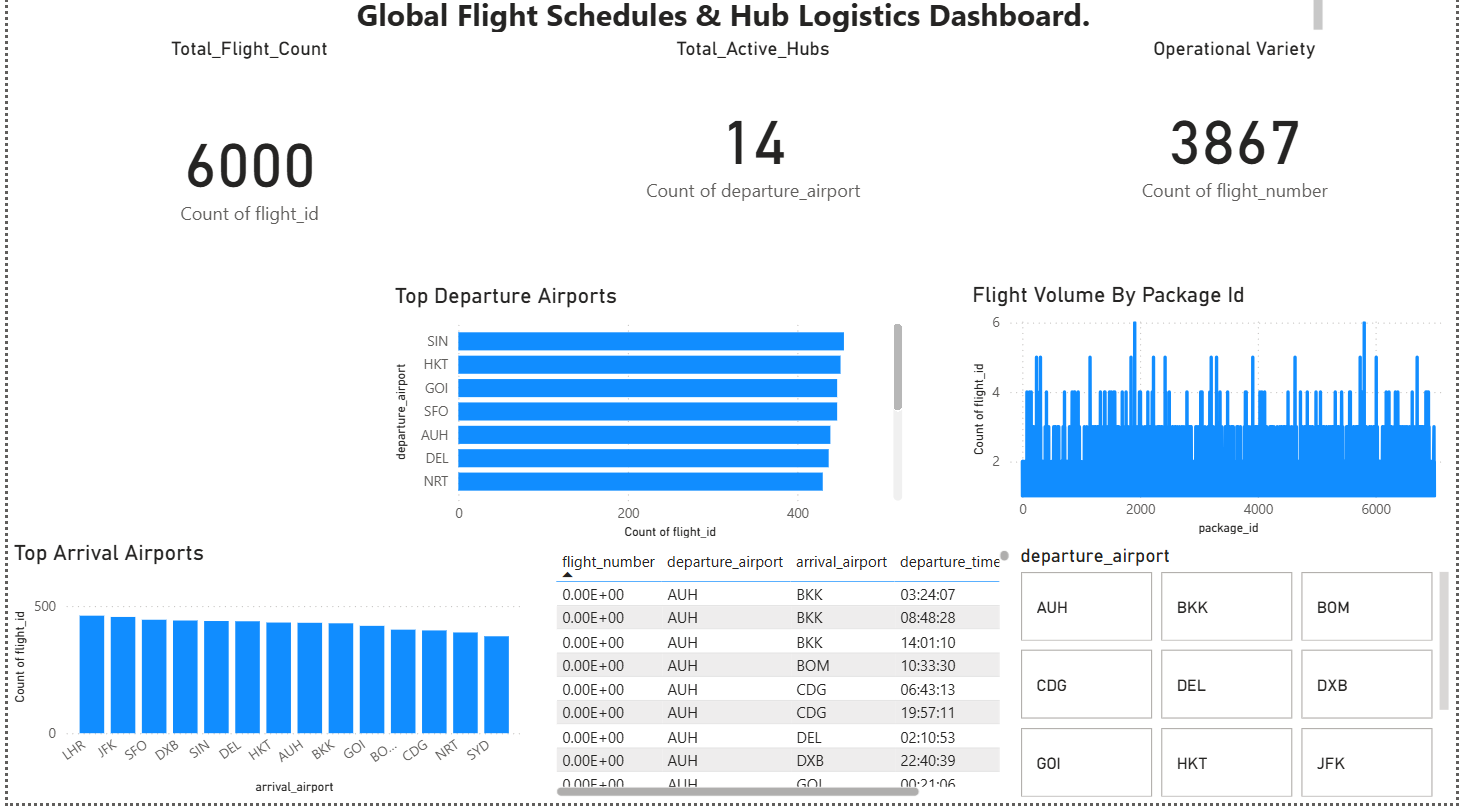

This screenshot's page, from the dashboard's own definition file:
{"tool":"powerbi","page":{"name":"Page 1","canvas":[1280,720],"ordinal":0},"visuals":[{"type":"card","title":"Total_Flight_Count","fields":{"Values":["CountNonNull(tbl_flight_schedules - tbl_flight_schedules (2).flight_id)"]},"box":[0,42.4,427,215],"z":0},{"type":"card","title":"Total_Active_Hubs","fields":{"Values":["Count(tbl_flight_schedules - tbl_flight_schedules (2).departure_airport)"]},"box":[427,42.4,463.3,174.1],"z":1000},{"type":"card","title":"Operational Variety","fields":{"Values":["Count(tbl_flight_schedules - tbl_flight_schedules (2).flight_number)"]},"box":[890.4,42.4,389.2,174.1],"z":2000},{"type":"clusteredBarChart","title":"Top Departure Airports","fields":{"Category":["tbl_flight_schedules - tbl_flight_schedules (2).departure_airport"],"Y":["CountNonNull(tbl_flight_schedules - tbl_flight_schedules (2).flight_id)"]},"box":[337.7,260.4,458.8,230.2],"z":3000},{"type":"columnChart","title":"Top Arrival Airports","fields":{"Category":["tbl_flight_schedules - tbl_flight_schedules (2).arrival_airport"],"Y":["CountNonNull(tbl_flight_schedules - tbl_flight_schedules (2).flight_id)"]},"box":[0,487,459,229],"z":4000},{"type":"lineChart","title":"Flight Volume By Package Id","fields":{"Category":["tbl_flight_schedules - tbl_flight_schedules (2).package_id"],"Y":["CountNonNull(tbl_flight_schedules - tbl_flight_schedules (2).flight_id)"]},"box":[848,258.9,431.5,228.6],"z":5000},{"type":"tableEx","fields":{"Values":["tbl_flight_schedules - tbl_flight_schedules (2).flight_number","tbl_flight_schedules - tbl_flight_schedules (2).departure_airport","tbl_flight_schedules - tbl_flight_schedules (2).arrival_airport","tbl_flight_schedules - tbl_flight_schedules (2).departure_time","tbl_flight_schedules - tbl_flight_schedules (2).arrival_time"]},"box":[478.5,490.6,411.9,228.6],"z":6000},{"type":"advancedSlicerVisual","fields":{"Values":["tbl_flight_schedules - tbl_flight_schedules (2).departure_airport"]},"box":[890.4,490.6,389.2,228.6],"z":6001},{"type":"textbox","box":[106,0,1061.5,42.4],"z":6002}]}

Visuals, with their boxes in screenshot pixels (x1, y1, x2, y2), scaled from the page's 1280x720 canvas onto the 1464x807 screenshot:
"Total_Flight_Count" card: [left=0, top=48, right=488, bottom=289]
"Total_Active_Hubs" card: [left=488, top=48, right=1018, bottom=243]
"Operational Variety" card: [left=1018, top=48, right=1463, bottom=243]
"Top Departure Airports" clusteredBarChart: [left=386, top=292, right=911, bottom=550]
"Top Arrival Airports" columnChart: [left=0, top=546, right=525, bottom=803]
"Flight Volume By Package Id" lineChart: [left=970, top=290, right=1463, bottom=546]
tableEx - tbl_flight_schedules - tbl_flight_schedules (2).flight_number x tbl_flight_schedules - tbl_flight_schedules (2).departure_airport: [left=547, top=550, right=1018, bottom=806]
advancedSlicerVisual - tbl_flight_schedules - tbl_flight_schedules (2).departure_airport: [left=1018, top=550, right=1463, bottom=806]
textbox: [left=121, top=0, right=1335, bottom=48]
